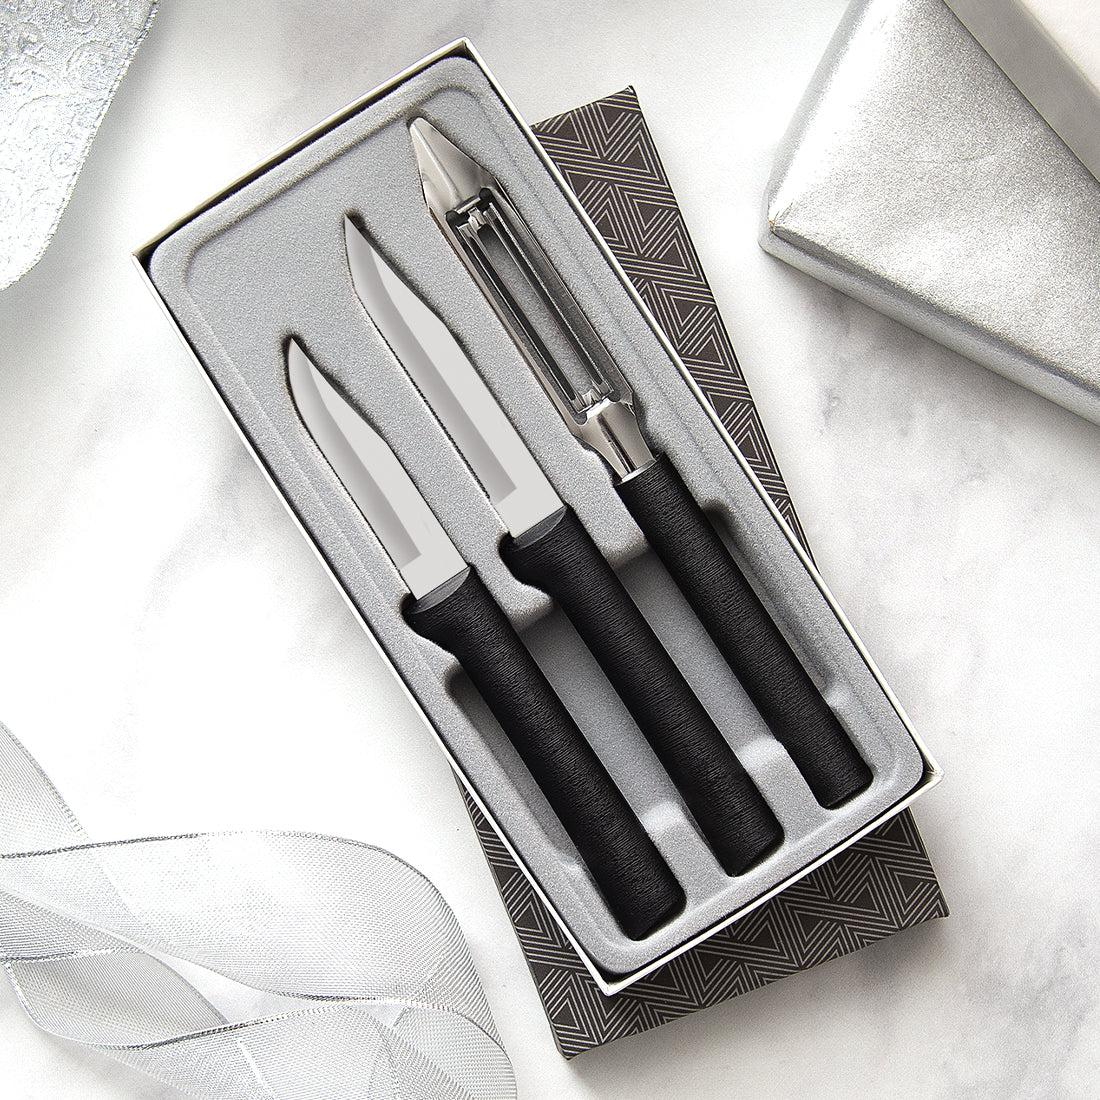Knife: (406, 114, 873, 812), (283, 333, 686, 941)
